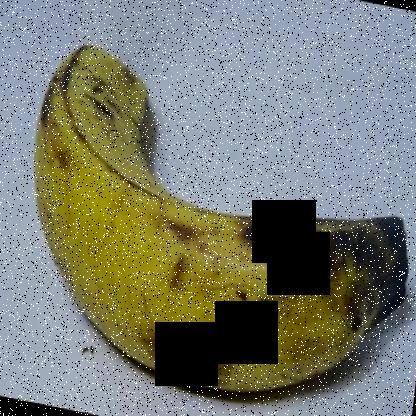ripe: (21, 33, 415, 401)
